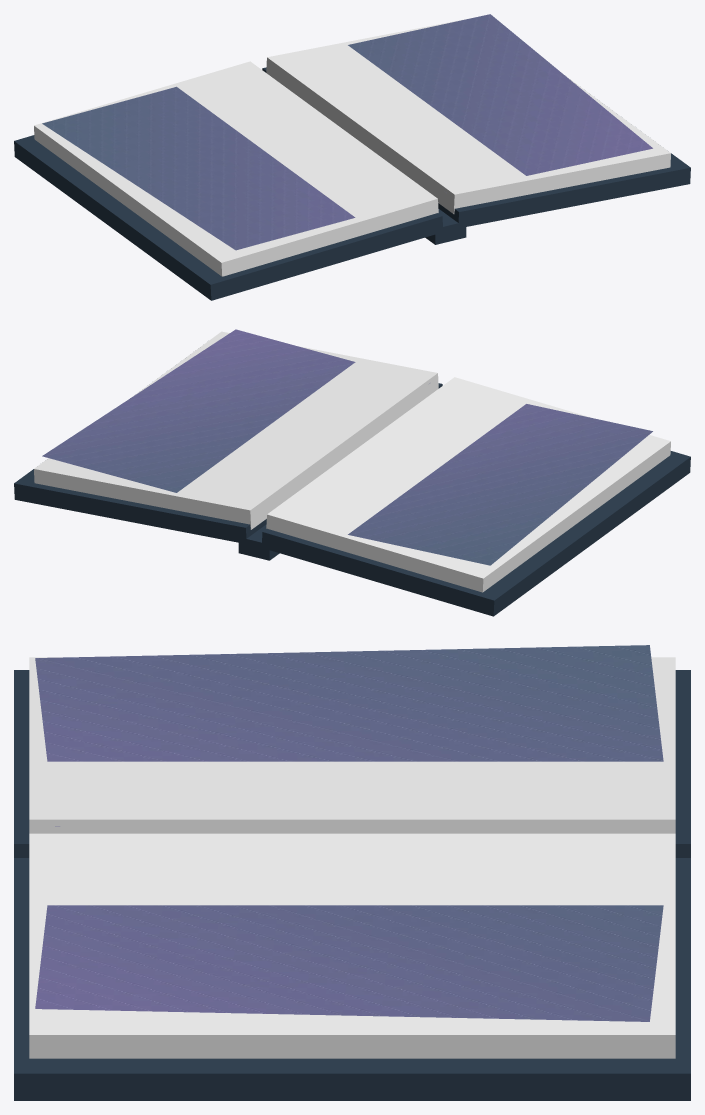
The model's file is state-default.glb.
The picture shows the model from 3 angles, top to bottom: view 1: azimuth 30°, elevation 25°; view 2: azimuth 150°, elevation 25°; view 3: azimuth 270°, elevation 25°; orthographic projection. The views are drawn at different scales.
Parts seen in each view (by area): view 1: assetPrim:e891daddeb566-19c7445a6c2:book-pages-left, assetPrim:e891daddeb566-19c7445a6c2:book-text-left, assetPrim:e891daddeb566-19c7445a6c2:book-text-right, assetPrim:e891daddeb566-19c7445a6c2:book-pages-right, assetPrim:e891daddeb566-19c7445a6c2:book-cover-left, assetPrim:e891daddeb566-19c7445a6c2:book-cover-right, assetPrim:e891daddeb566-19c7445a6c2:book-spine; view 2: assetPrim:e891daddeb566-19c7445a6c2:book-pages-left, assetPrim:e891daddeb566-19c7445a6c2:book-text-right, assetPrim:e891daddeb566-19c7445a6c2:book-text-left, assetPrim:e891daddeb566-19c7445a6c2:book-pages-right, assetPrim:e891daddeb566-19c7445a6c2:book-cover-left, assetPrim:e891daddeb566-19c7445a6c2:book-cover-right, assetPrim:e891daddeb566-19c7445a6c2:book-spine; view 3: assetPrim:e891daddeb566-19c7445a6c2:book-pages-right, assetPrim:e891daddeb566-19c7445a6c2:book-text-right, assetPrim:e891daddeb566-19c7445a6c2:book-text-left, assetPrim:e891daddeb566-19c7445a6c2:book-pages-left, assetPrim:e891daddeb566-19c7445a6c2:book-cover-right, assetPrim:e891daddeb566-19c7445a6c2:book-cover-left.
Part boxes in pixels (x1,y1,x2,y2): assetPrim:e891daddeb566-19c7445a6c2:book-pages-left: (34,61,438,276); assetPrim:e891daddeb566-19c7445a6c2:book-text-left: (42,86,355,250); assetPrim:e891daddeb566-19c7445a6c2:book-text-right: (348,14,652,175); assetPrim:e891daddeb566-19c7445a6c2:book-pages-right: (266,18,670,213); assetPrim:e891daddeb566-19c7445a6c2:book-cover-left: (14,135,442,300); assetPrim:e891daddeb566-19c7445a6c2:book-cover-right: (262,67,690,226); assetPrim:e891daddeb566-19c7445a6c2:book-spine: (425,208,466,244); assetPrim:e891daddeb566-19c7445a6c2:book-pages-left: (266,377,670,592); assetPrim:e891daddeb566-19c7445a6c2:book-text-right: (42,329,429,492); assetPrim:e891daddeb566-19c7445a6c2:book-text-left: (348,404,652,565); assetPrim:e891daddeb566-19c7445a6c2:book-pages-right: (34,331,438,529); assetPrim:e891daddeb566-19c7445a6c2:book-cover-left: (262,451,690,616); assetPrim:e891daddeb566-19c7445a6c2:book-cover-right: (14,383,442,543); assetPrim:e891daddeb566-19c7445a6c2:book-spine: (238,524,279,560); assetPrim:e891daddeb566-19c7445a6c2:book-pages-right: (29,833,675,1058); assetPrim:e891daddeb566-19c7445a6c2:book-text-right: (35,905,663,1021); assetPrim:e891daddeb566-19c7445a6c2:book-text-left: (35,645,663,826); assetPrim:e891daddeb566-19c7445a6c2:book-pages-left: (29,657,675,833); assetPrim:e891daddeb566-19c7445a6c2:book-cover-right: (14,858,690,1100); assetPrim:e891daddeb566-19c7445a6c2:book-cover-left: (14,670,690,857).
Size of the model in its own units: 0.3103 by 0.0262 by 0.22.
Materials: 7 (2 with a texture image).
